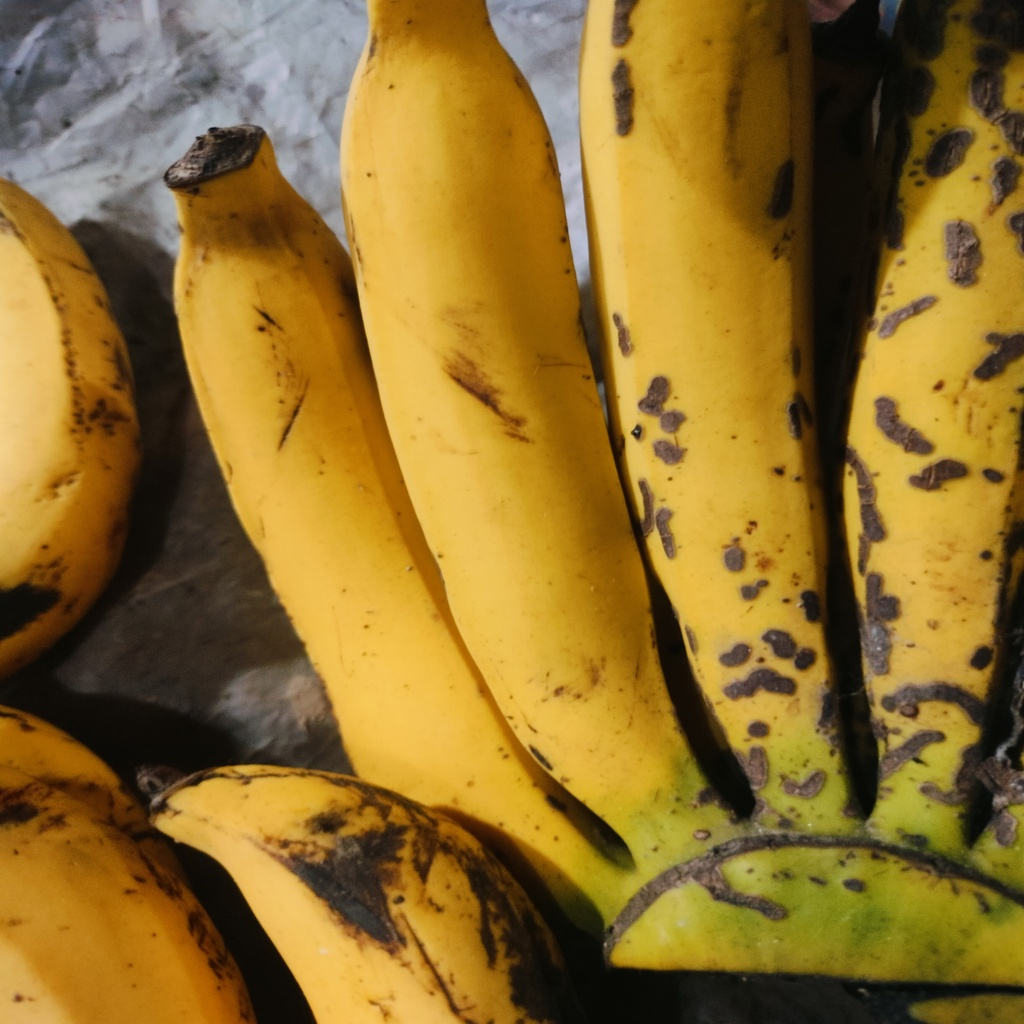healthy: (172, 129, 542, 873), (348, 3, 666, 844)
unhealthy: (579, 3, 842, 809)
